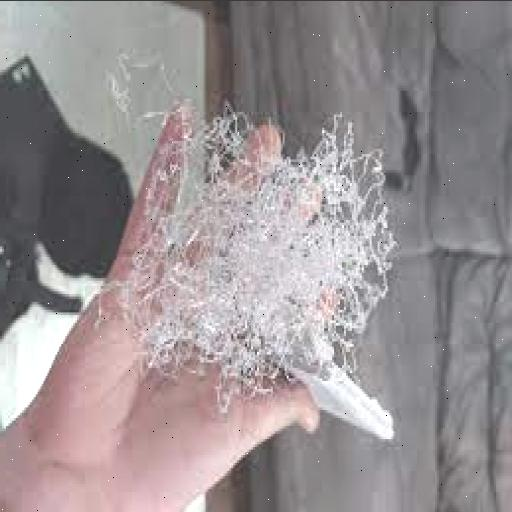spaghetti: (106, 114, 388, 372)
